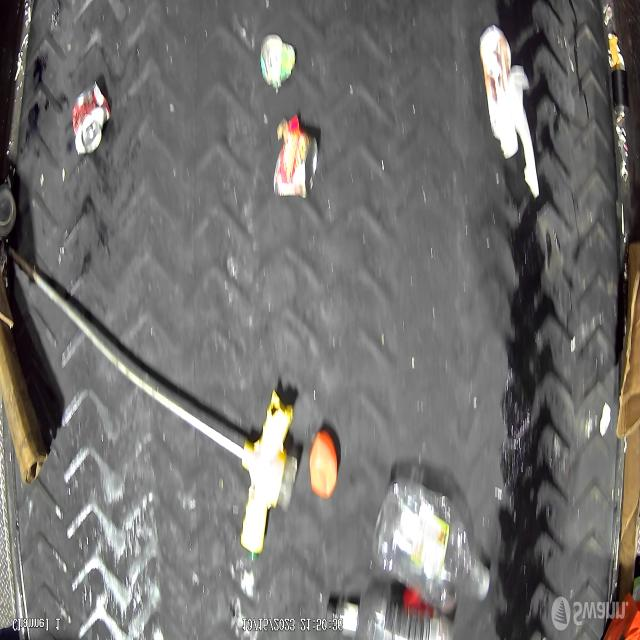can: (273, 120, 320, 202), (71, 79, 112, 158), (260, 36, 296, 88)
plastic_bottle: (373, 476, 492, 612), (326, 584, 454, 640)
